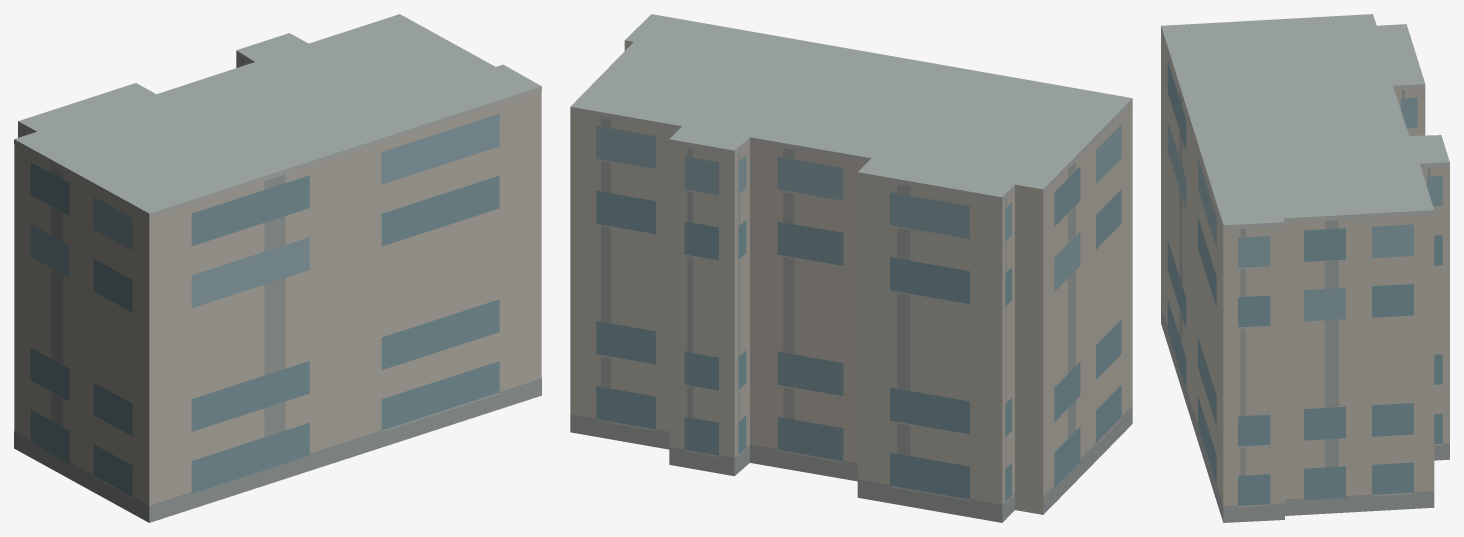
Rendered from survey-upis-32595582.glb.
3 renders of one model, left to right at view 1: azimuth 30°, elevation 25°; view 2: azimuth 150°, elevation 25°; view 3: azimuth 270°, elevation 25°, orthographic. The views are drawn at different scales.
Parts seen in each view (by area): view 1: survey-upis-32595582.tmp; view 2: survey-upis-32595582.tmp; view 3: survey-upis-32595582.tmp.
Boxes of the visible parts, x1,y1,x2,y2 form: survey-upis-32595582.tmp: (14, 14, 541, 522); survey-upis-32595582.tmp: (570, 14, 1132, 522); survey-upis-32595582.tmp: (1161, 14, 1449, 522).
Bounding box in the file's own units: 23.22 × 15.25 × 13.42.
